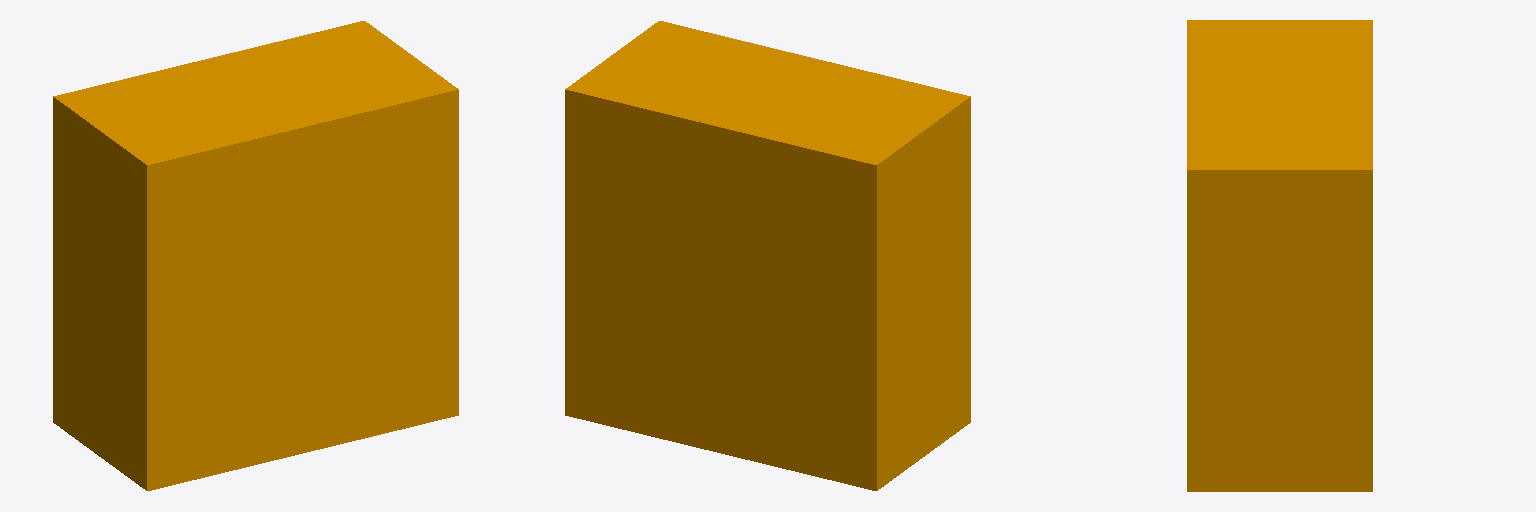
robot.urdf — room73b2-mac-burger-box:
<?xml version="1.0"?>
<robot name="room73b2-mac-burger-box"
       xmlns:xi="http://www.w3.org/2001/XInclude"
       >
  <gazebo>
    <static>false</static>
  </gazebo>
  <link name="nil_link">
    <visual>
      <origin xyz="0 0 0" rpy="0 -0 0"/>
      <geometry>
        <mesh filename="model://room73b2-mac-burger-box/meshes/nil_link_mesh.dae" scale="1 1 1" />
      </geometry>
    </visual>
    <collision>
      <origin xyz="0 0 0" rpy="0 -0 0"/>
      <geometry>
        <mesh filename="model://room73b2-mac-burger-box/meshes/nil_link_mesh.dae" scale="1 1 1" />
      </geometry>
    </collision>
    <inertial>
      <mass value="0.3" />
      <origin xyz="0 0 0" rpy="0 -0 0"/>
      <inertia ixx="1e-03" ixy="0" ixz="0" iyy="1e-03" iyz="0" izz="1e-03"/>
    </inertial>
  </link>
  <gazebo reference="nil_link">
    <mu1>0.9</mu1>
    <mu2>0.9</mu2>
  </gazebo>
</robot>

--- Facts derived from the render (not from the file) ---
The picture shows the robot from 3 angles, left to right: view 1: azimuth 30°, elevation 25°; view 2: azimuth 150°, elevation 25°; view 3: azimuth 270°, elevation 25°; orthographic projection.
Robot: room73b2-mac-burger-box — 1 links, 0 joints (none); root link nil_link; default pose: every joint at zero.
Visible links, largest first — view 1: nil_link; view 2: nil_link; view 3: nil_link.
Link boxes in pixels (x1,y1,x2,y2): nil_link: (53, 21, 458, 490); nil_link: (565, 21, 970, 490); nil_link: (1187, 20, 1372, 491).
Size in the robot's own frame: 0.105 by 0.055 by 0.105 metres.
Meshes: 1 distinct files referenced, 1 mesh visuals loaded (1 Collada DAE).
